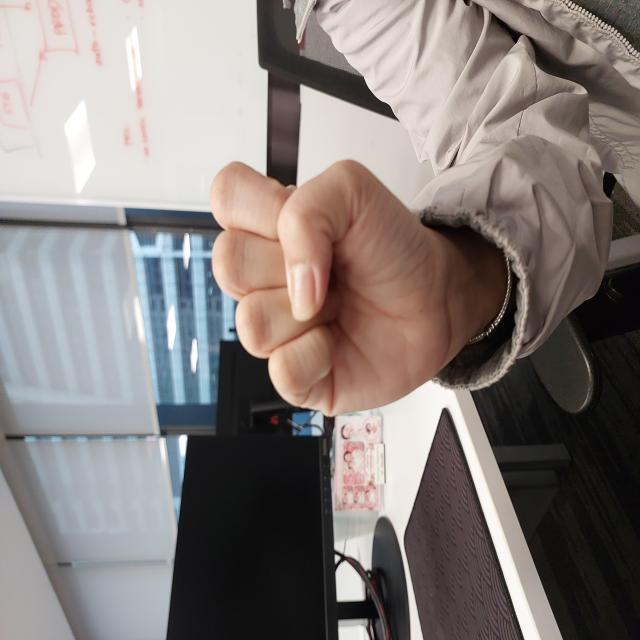S: (224, 208, 480, 449)
